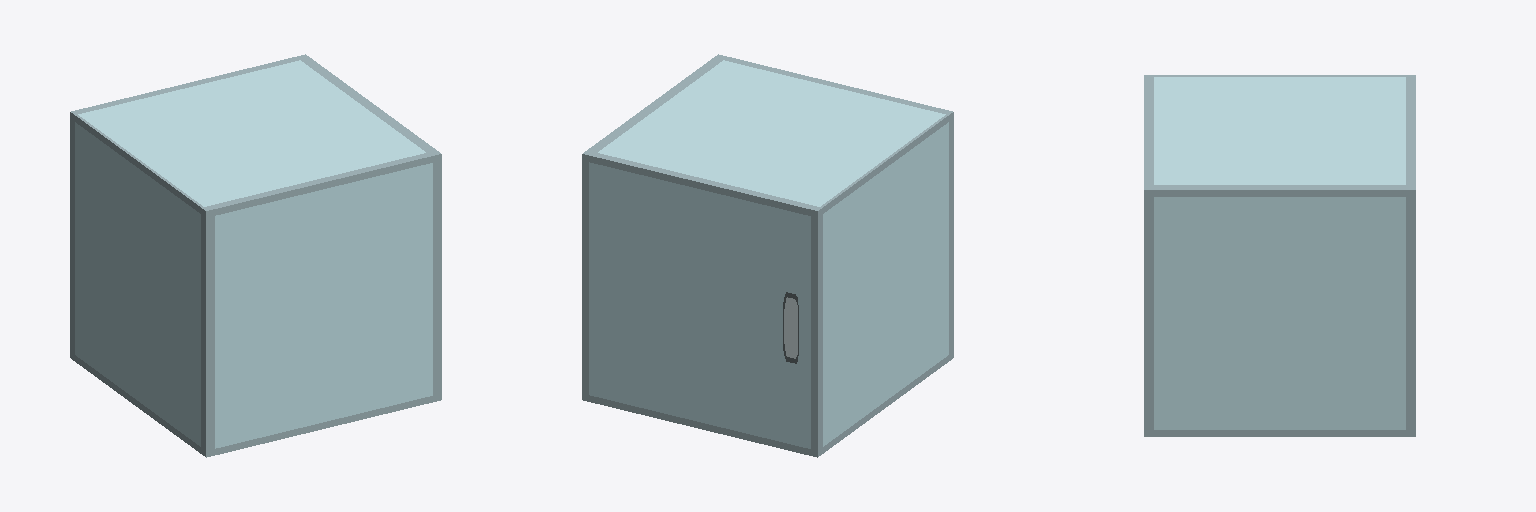
3 renders of one model, left to right at view 1: azimuth 30°, elevation 25°; view 2: azimuth 150°, elevation 25°; view 3: azimuth 270°, elevation 25°, orthographic.
Visible parts, largest first — view 1: Cube; view 2: Cube; view 3: Cube.
Boxes of the visible parts, x1=… form: Cube: x1=70, y1=54, x2=441, y2=457; Cube: x1=582, y1=54, x2=953, y2=457; Cube: x1=1144, y1=75, x2=1415, y2=436.
Bounding box in the file's own units: 2 × 2 × 2.
Materials: 1 (1 with a texture image).